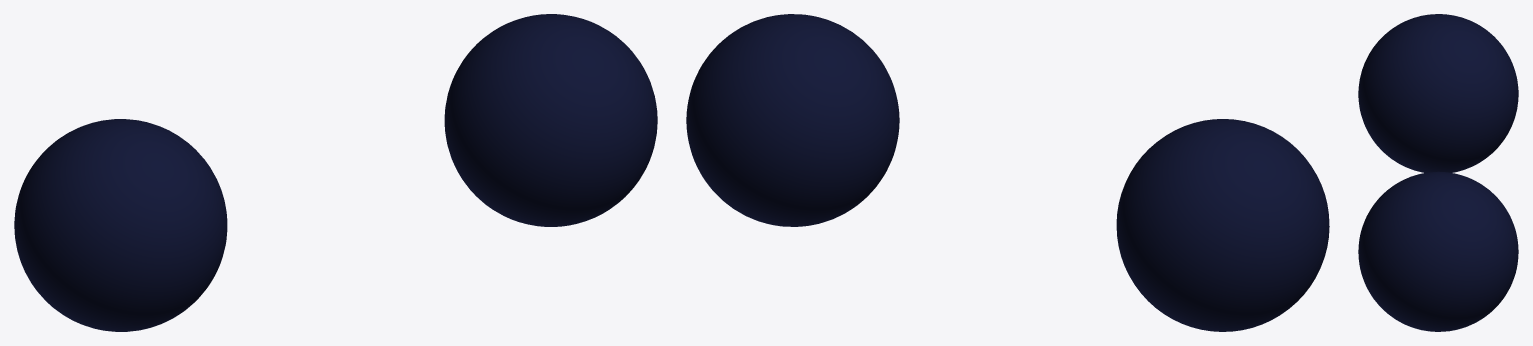
Rendered from slime_eyes.fbx.
The picture shows the model from 3 angles, left to right: view 1: azimuth 30°, elevation 25°; view 2: azimuth 150°, elevation 25°; view 3: azimuth 270°, elevation 25°; orthographic projection. The views are drawn at different scales.
Parts seen in each view (by area): view 1: Eyes.001; view 2: Eyes.001; view 3: Eyes.001.
Part boxes in pixels (<box>): Eyes.001: <box>14,14,657,331</box>; Eyes.001: <box>686,14,1329,331</box>; Eyes.001: <box>1358,14,1518,331</box>.
Bounding box in the file's own units: 22.16 × 6.65 × 6.65.
